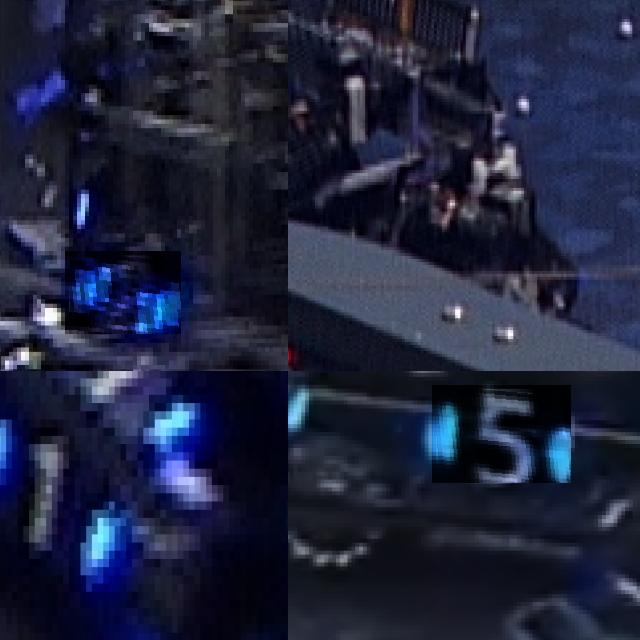B1: (0, 403, 114, 583), (46, 371, 206, 460)
B2: (65, 251, 181, 334)
B5: (432, 385, 571, 483)
